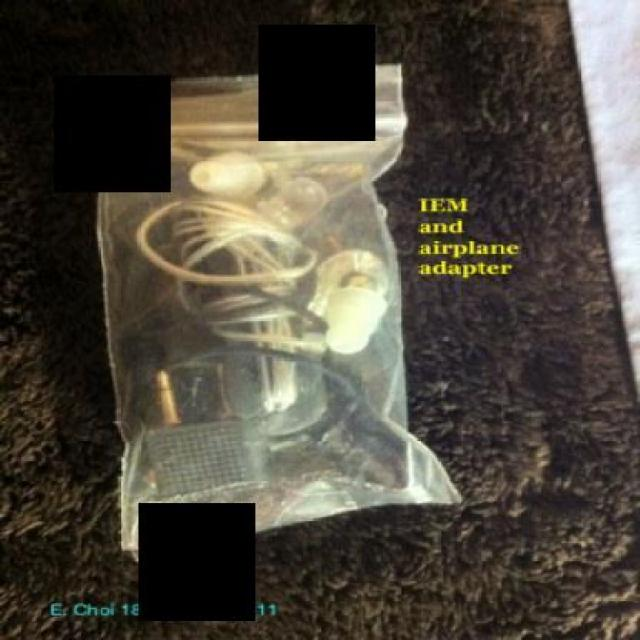plastic bag: (68, 60, 460, 558)
